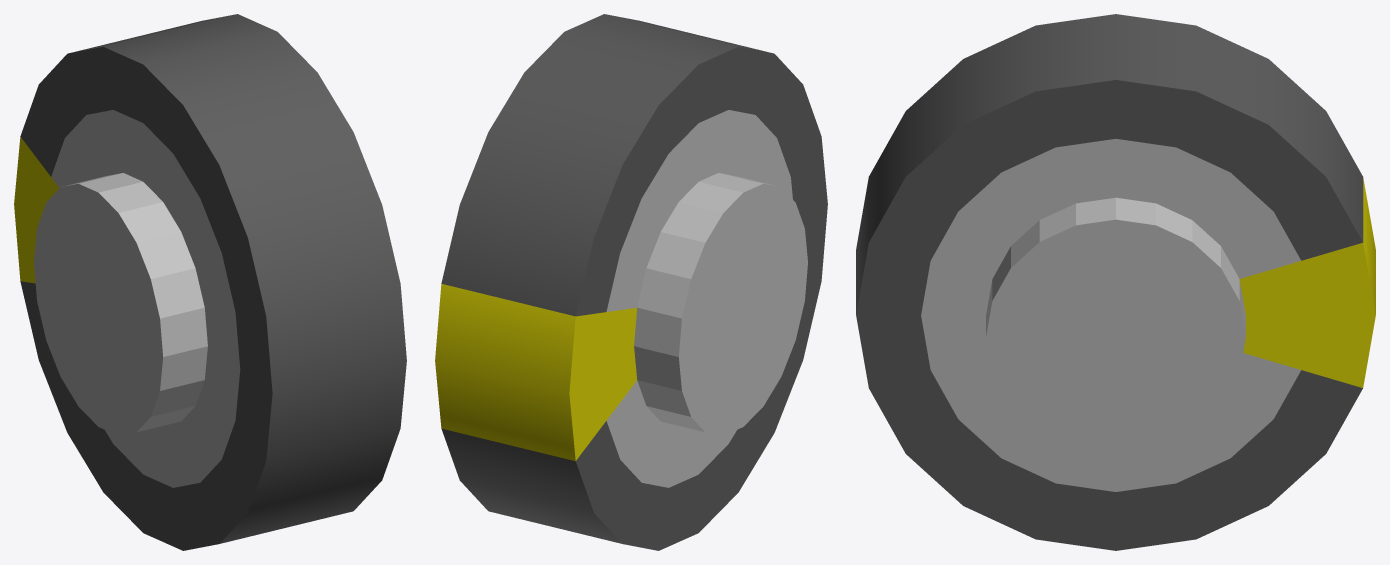
File: Wheel.fbx
3 renders of one model, left to right at view 1: azimuth 30°, elevation 25°; view 2: azimuth 150°, elevation 25°; view 3: azimuth 270°, elevation 25°, orthographic.
Parts seen in each view (by area): view 1: pCylinder2; view 2: pCylinder2; view 3: pCylinder2.
Part boxes in pixels (<box>): pCylinder2: <box>14,14,406,550</box>; pCylinder2: <box>435,14,827,550</box>; pCylinder2: <box>856,14,1375,550</box>.
Bounding box in the file's own units: 2 × 4 × 4.
